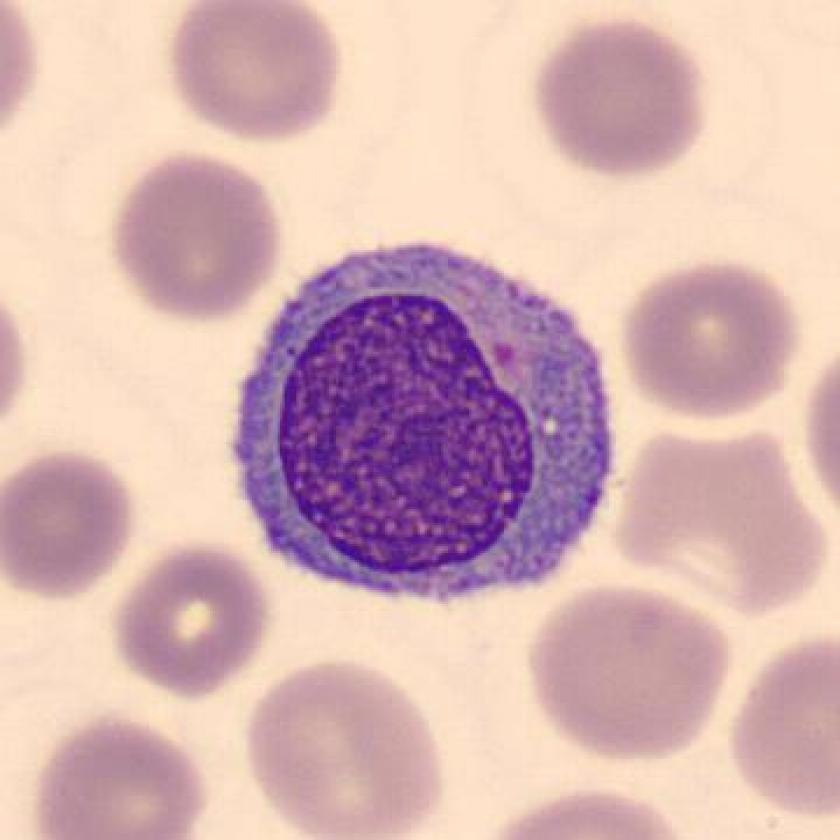monocyte: (216, 225, 629, 612)
